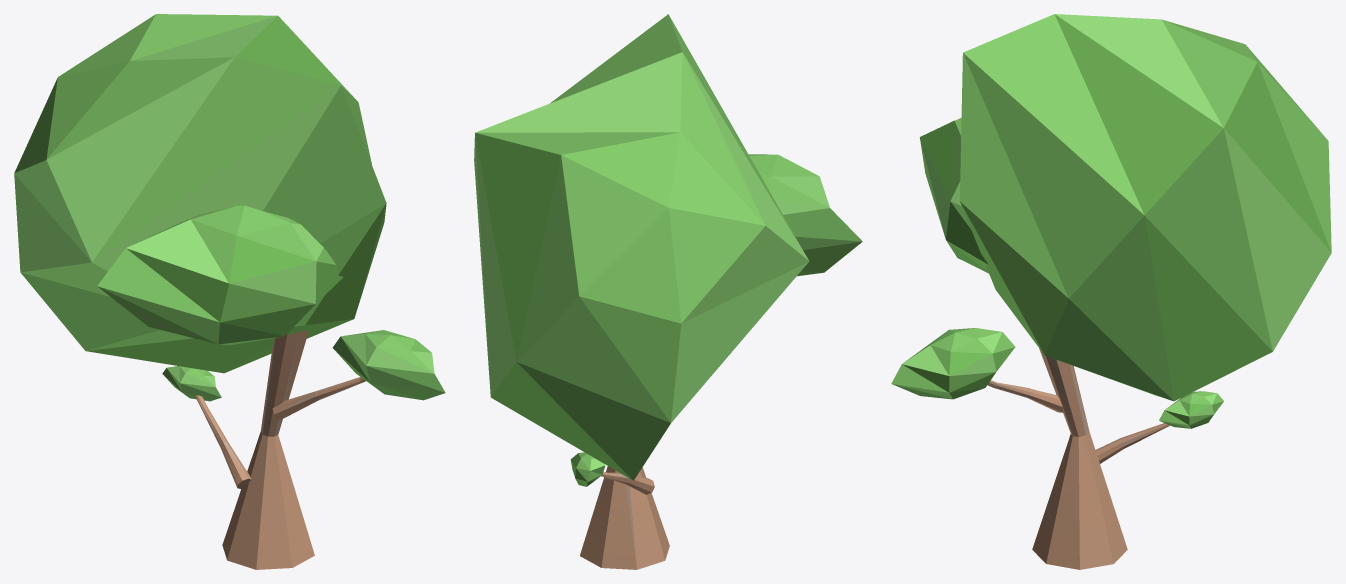
File: tree02.fbx
3 renders of one model, left to right at view 1: azimuth 30°, elevation 25°; view 2: azimuth 150°, elevation 25°; view 3: azimuth 270°, elevation 25°, orthographic. The views are drawn at different scales.
Visible parts, largest first — view 1: tree02; view 2: tree02; view 3: tree02.
Part boxes in pixels (x1,y1,x2,y2): tree02: (14,14,445,569); tree02: (474,14,862,569); tree02: (891,14,1331,569).
Bounding box in the file's own units: 340 × 506 × 394.
Materials: 5 (5 with a texture image).
